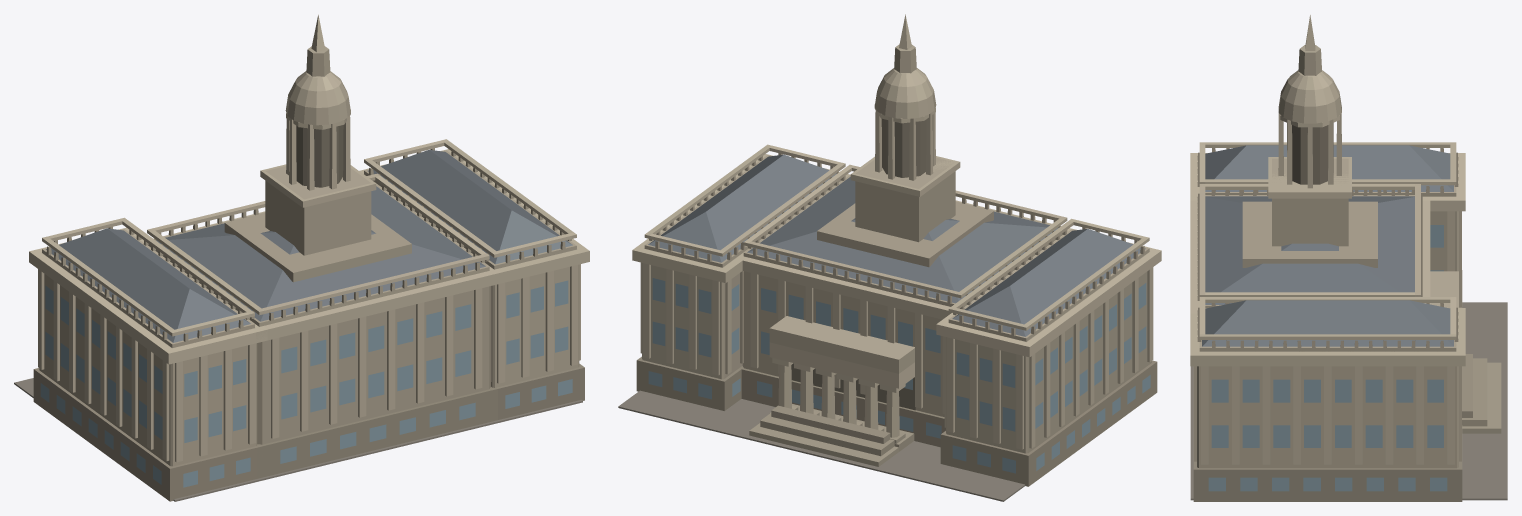
3 views of the same model, side by side, from view 1: azimuth 30°, elevation 25°; view 2: azimuth 150°, elevation 25°; view 3: azimuth 270°, elevation 25° (orthographic). The views are drawn at different scales.
Parts seen in each view (by area): view 1: city-hall-lod0; view 2: city-hall-lod0; view 3: city-hall-lod0.
Part boxes in pixels (<box>): city-hall-lod0: <box>14,14,589,501</box>; city-hall-lod0: <box>618,14,1161,501</box>; city-hall-lod0: <box>1190,15,1507,501</box>.
Bounding box in the file's own units: 84.6 × 75.6 × 56.07.
